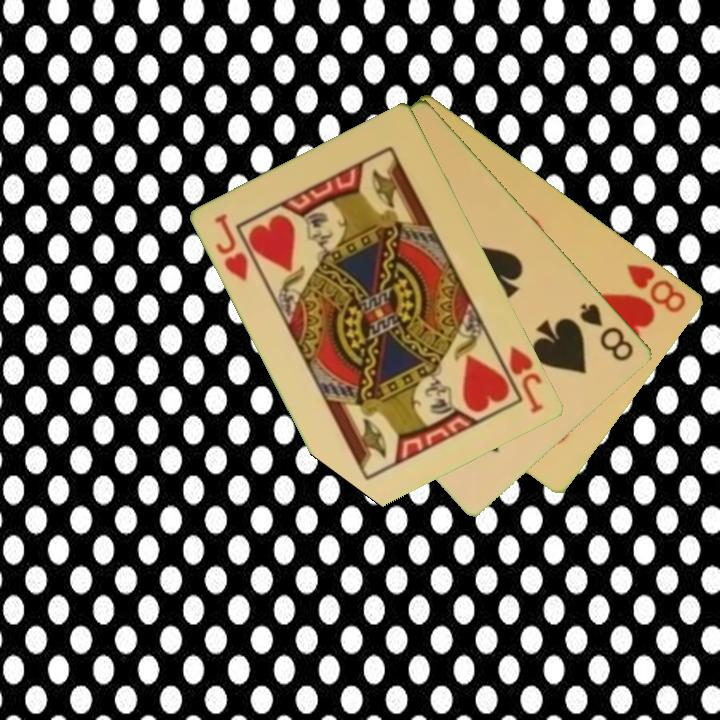8h: (622, 260, 690, 316)
8s: (577, 299, 638, 365)
Jh: (211, 209, 252, 285), (506, 342, 547, 417)
